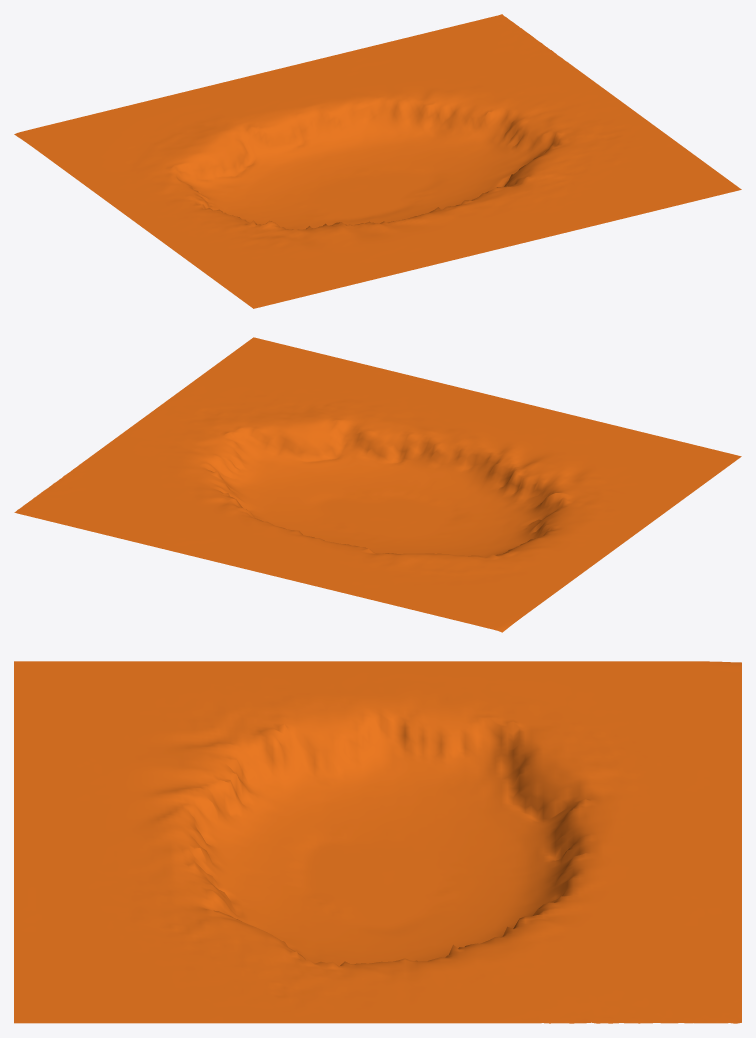
3 renders of one model, top to bottom at view 1: azimuth 30°, elevation 25°; view 2: azimuth 150°, elevation 25°; view 3: azimuth 270°, elevation 25°, orthographic. The views are drawn at different scales.
Visible parts, largest first — view 1: Low poly; view 2: Low poly; view 3: Low poly.
Boxes of the visible parts, bbox=[...] form: Low poly: bbox=[14, 14, 741, 308]; Low poly: bbox=[14, 337, 741, 632]; Low poly: bbox=[14, 661, 741, 1023].
Bounding box in the file's own units: 41831 × 2615 × 35550.
